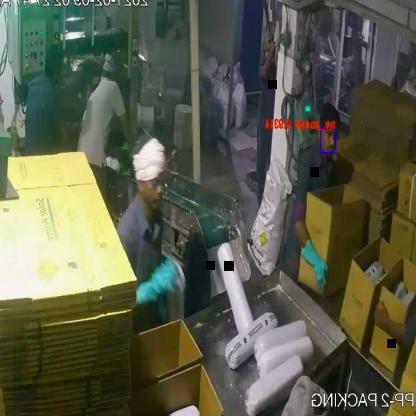glove: (135, 250, 184, 322), (301, 240, 331, 292)
no_glove: (120, 110, 140, 163), (260, 36, 276, 83)
